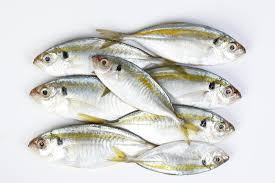Ikan Selar: (98, 15, 257, 66), (23, 124, 153, 171), (106, 101, 242, 145), (30, 33, 156, 79), (110, 135, 241, 177), (149, 64, 253, 112), (25, 75, 132, 121)
